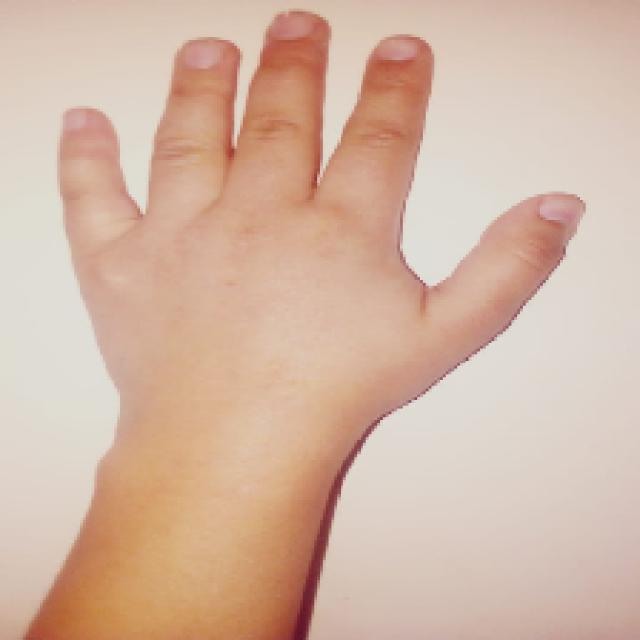Nail: (268, 11, 319, 40), (539, 194, 585, 226), (181, 39, 225, 69), (372, 36, 422, 61), (64, 109, 86, 131)
